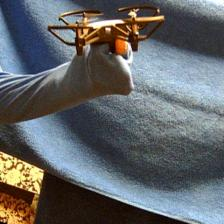drone: (46, 5, 166, 55)
